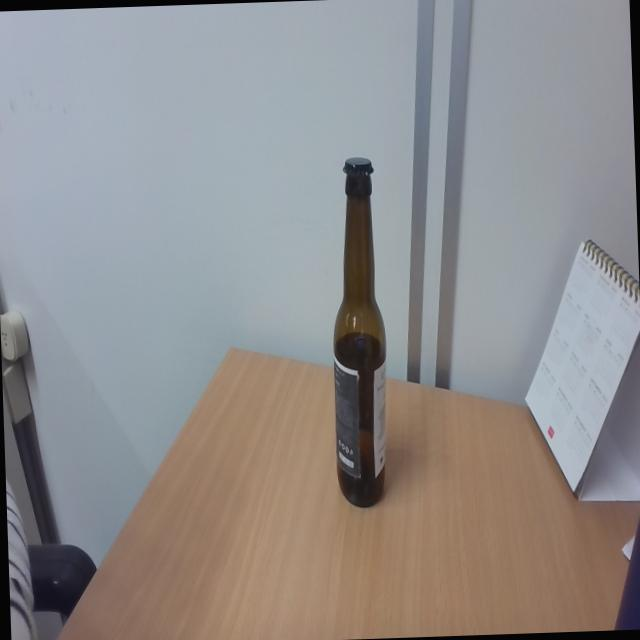Bottle: (324, 153, 392, 508)
Cap: (339, 153, 376, 182)
Label: (330, 354, 390, 482)
